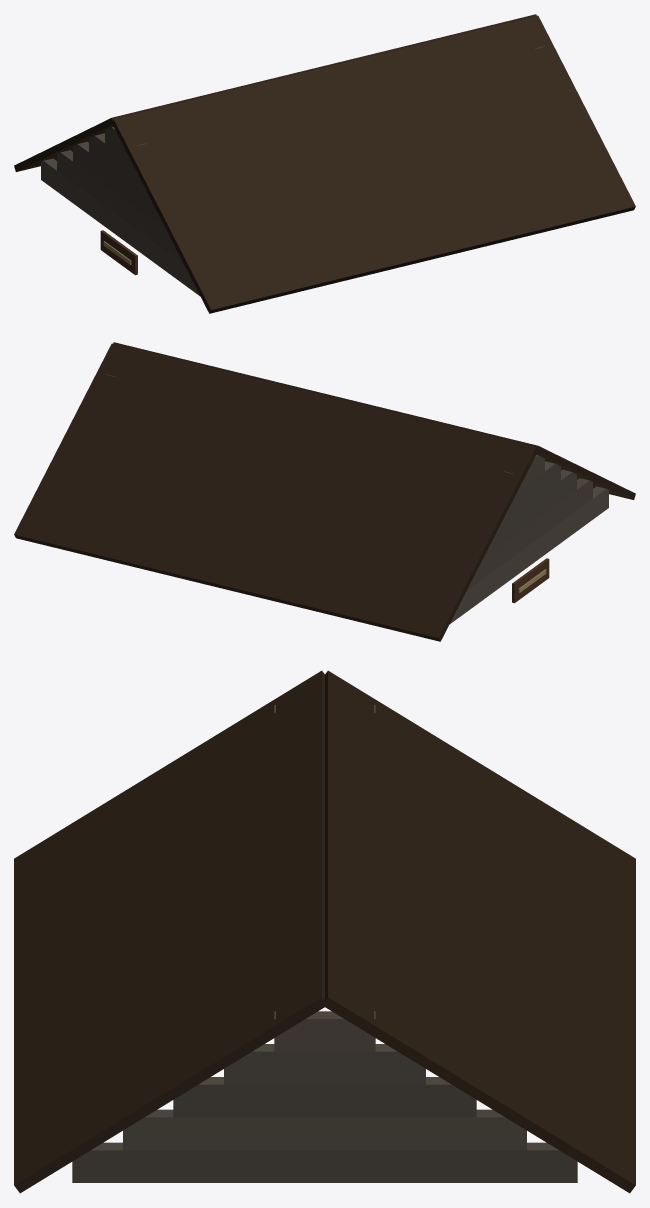
File: inn_roof.glb
3 views of the same model, one above another, from view 1: azimuth 30°, elevation 25°; view 2: azimuth 150°, elevation 25°; view 3: azimuth 270°, elevation 25° (orthographic). The views are drawn at different scales.
Visible parts, largest first — view 1: InnRoof; view 2: InnRoof; view 3: InnRoof.
Boxes of the visible parts, box(x1,y1,x2,y2) form: InnRoof: box(14, 14, 635, 313); InnRoof: box(14, 342, 635, 641); InnRoof: box(14, 670, 635, 1193).
Bounding box in the file's own units: 12.8 × 4.19 × 10.3.
